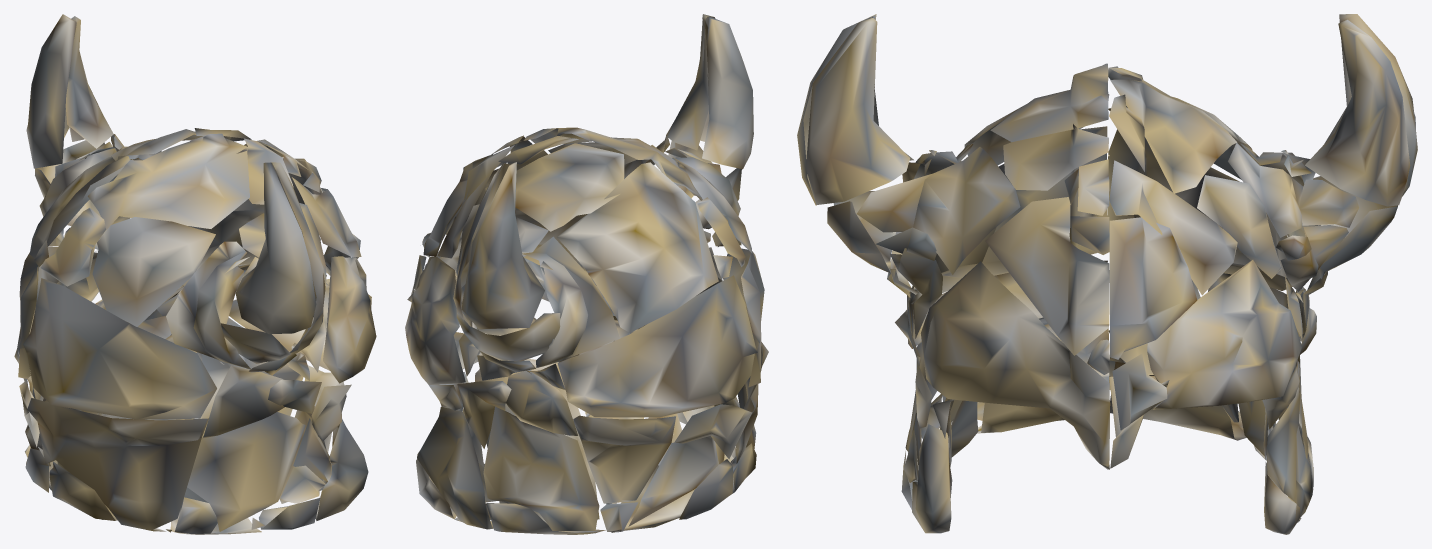
Rendered from viking-helmet.fbx.
3 renders of one model, left to right at view 1: azimuth 30°, elevation 25°; view 2: azimuth 150°, elevation 25°; view 3: azimuth 270°, elevation 25°, orthographic. The views are drawn at different scales.
Parts seen in each view (by area): view 1: viking-helmet; view 2: viking-helmet; view 3: viking-helmet.
Part boxes in pixels (box(x1,y1,x2,y2)): viking-helmet: box(14, 14, 376, 534); viking-helmet: box(405, 14, 768, 534); viking-helmet: box(797, 14, 1417, 534).
Size of the model in its own units: 0.34 by 0.3702 by 0.4471.
